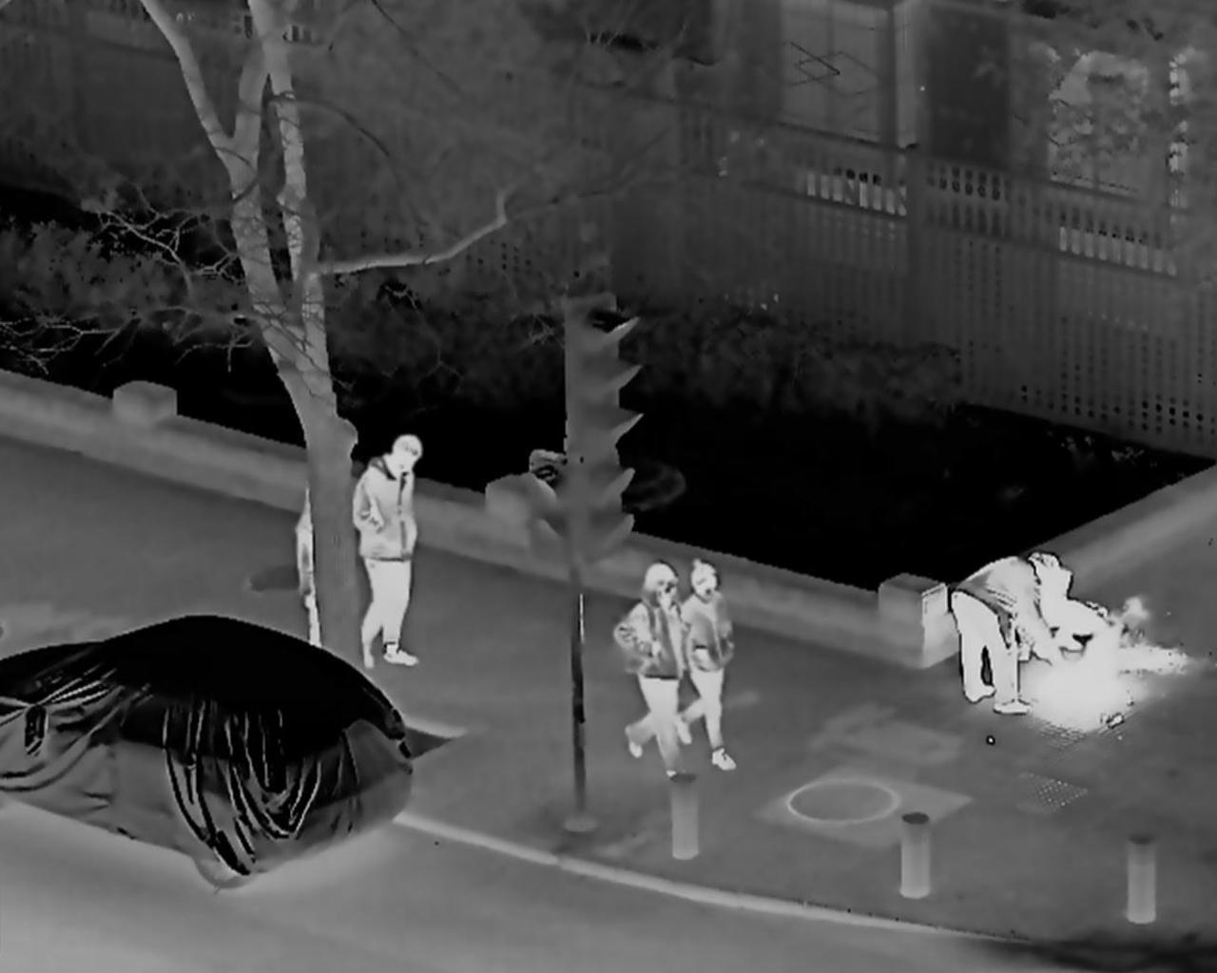person: (612, 555, 692, 787), (351, 431, 426, 667), (946, 552, 1052, 714), (675, 561, 740, 776), (1002, 548, 1110, 665)
